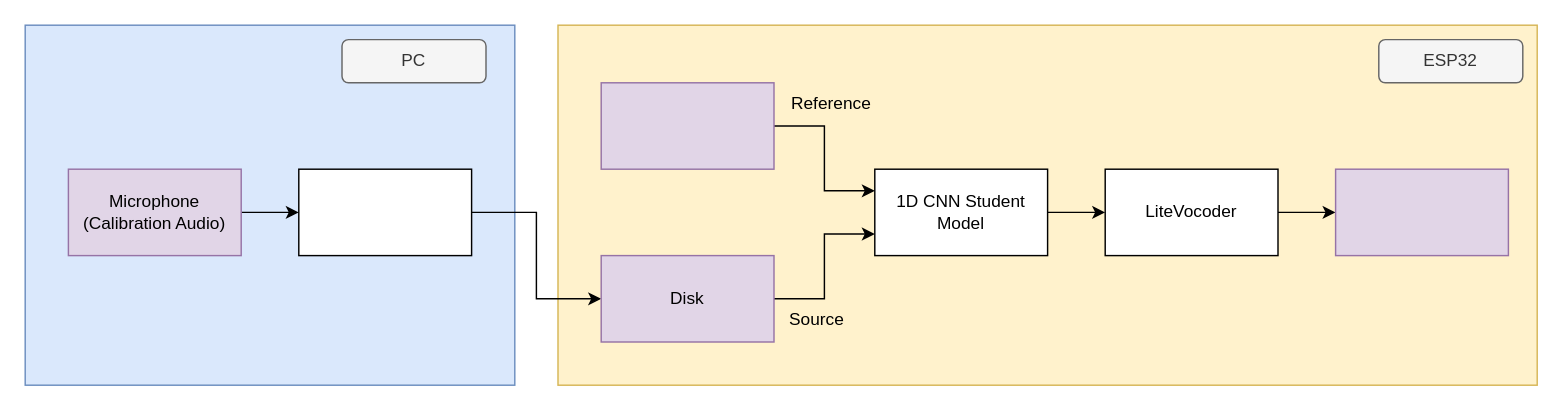
The diagram is 1562 pixels wide and 410 high, and some of its shapes have lost their labels. The centre of each missing label's shape, as x and y in pixels:
"Microphone (Off-tune audio)" goes at (x=687, y=125).
"Signal Transformations" goes at (x=384, y=212).
"Speaker" goes at (x=1421, y=212).
